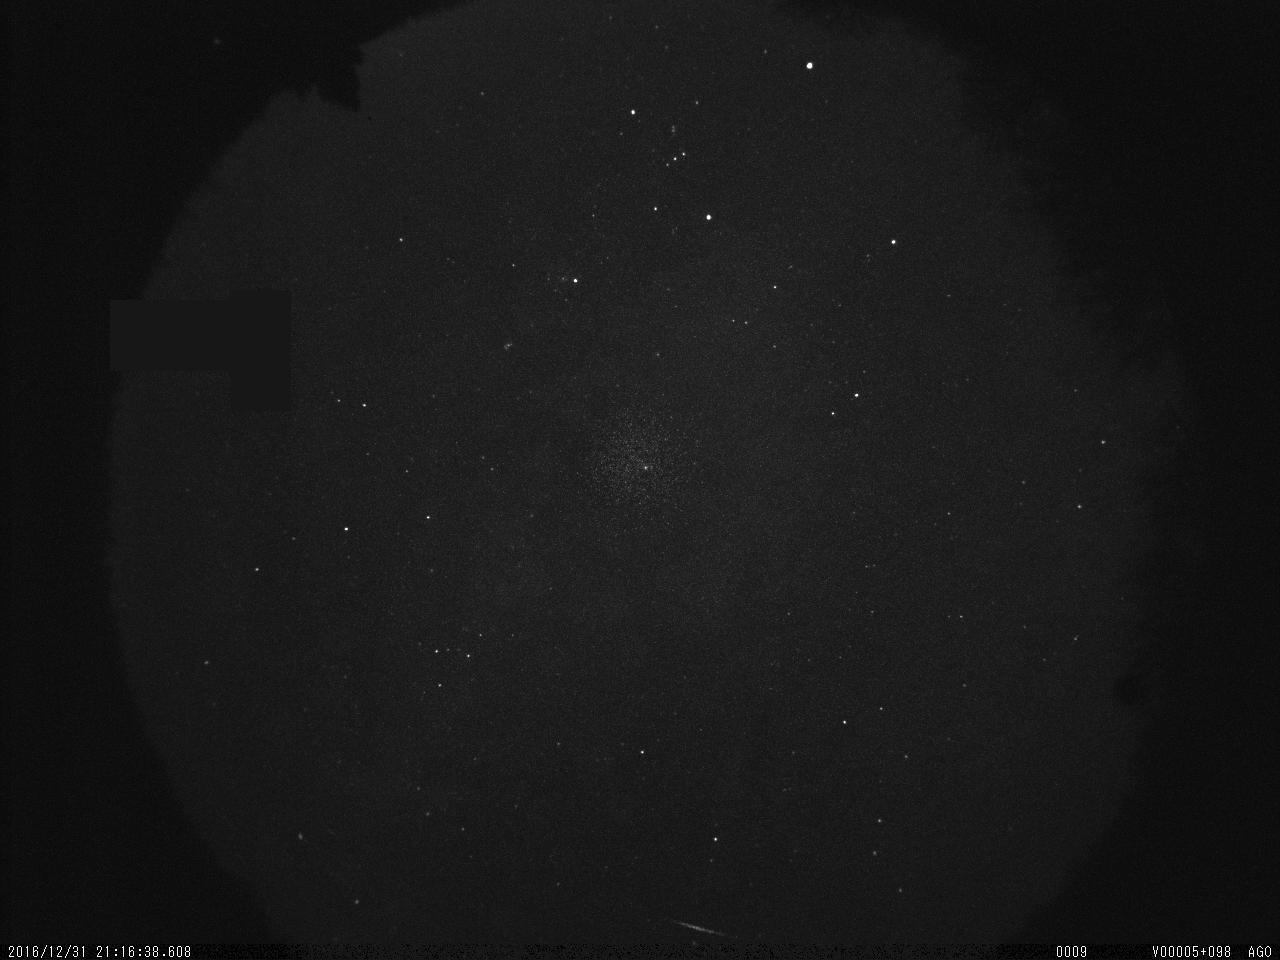meteor: (677, 912, 733, 947)
